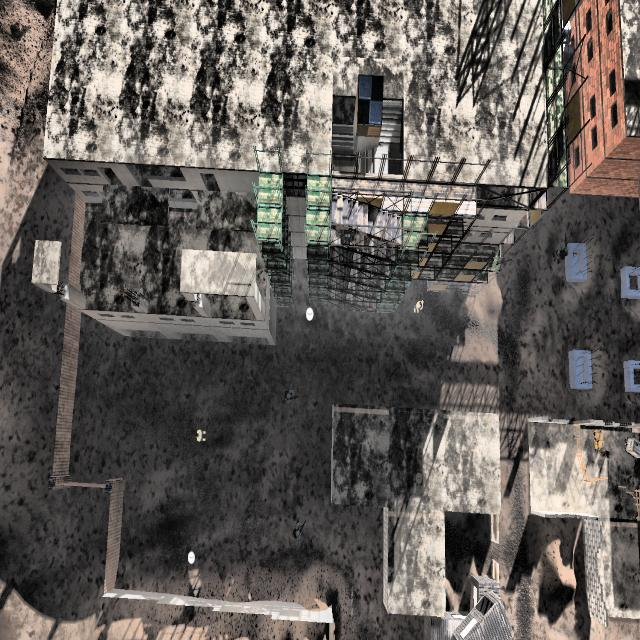bad: (288, 507, 308, 555), (280, 377, 300, 415), (554, 237, 575, 273)
good: (191, 414, 211, 455), (409, 290, 428, 323)
